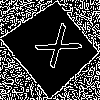X: (27, 22, 83, 77)
